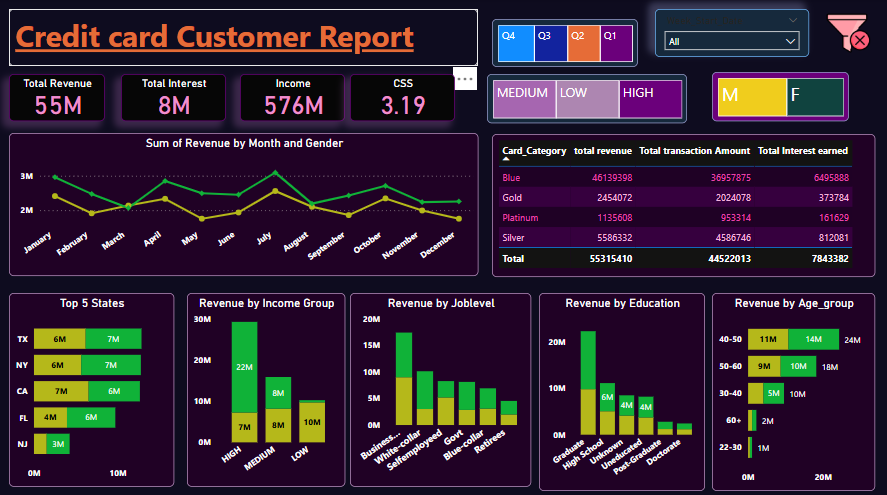

Layout of this report page (visuals, bound fields, positions):
{"tool":"powerbi","page":{"name":"customer CC","canvas":[1280,720],"ordinal":2},"visuals":[{"type":"textbox","box":[15.8,14.4,675.4,82.1],"z":0},{"type":"tableEx","fields":{"Values":["credit_detail.Card_Category","Sum(credit_detail.Revenue)","Sum(credit_detail.Total_Trans_Amt)","Sum(credit_detail.Interest_Earned)"]},"box":[711.4,194.4,560.2,205.9],"z":1000},{"type":"card","title":"REVENUE","fields":{"Values":["Sum(credit_detail.Revenue)"]},"box":[15.8,108,151.2,86.4],"z":2000},{"type":"card","title":"Total Interest","fields":{"Values":["Sum(credit_detail.Interest_Earned)"]},"box":[177.1,108,151.2,86.4],"z":3000},{"type":"card","title":"Income","fields":{"Values":["Sum(customer_detail.Income)"]},"box":[348.5,108,151.2,86.4],"z":4000},{"type":"card","title":"CSS","fields":{"Values":["Avg(customer_detail.Cust_Satisfaction_Score)"]},"box":[506.9,108,151.2,86.4],"z":5000},{"type":"treemap","fields":{"Group":["credit_detail.Qtr"],"Values":["Avg(credit_detail.Client_Num)"]},"box":[704.2,14.4,280.8,67.7],"z":6000},{"type":"treemap","fields":{"Values":["Avg(credit_detail.Client_Num)"],"Group":["customer_detail.IncomeGroup"]},"box":[704.2,103.7,288,70.6],"z":7000},{"type":"barChart","title":"Revenue by Income Group","fields":{"Category":["customer_detail.IncomeGroup"],"Y":["Sum(credit_detail.Revenue)"],"Series":["customer_detail.Gender"]},"box":[253.4,416.2,246.2,292.3],"z":8000},{"type":"treemap","fields":{"Group":["customer_detail.Gender"],"Values":["Sum(credit_detail.Revenue)"]},"box":[1035.4,103.7,197.3,70.6],"z":9000},{"type":"barChart","title":" Revenue by Age_group ","fields":{"Y":["Sum(credit_detail.Revenue)"],"Category":["customer_detail.Age_group"],"Series":["customer_detail.Gender"]},"box":[1035.4,416.2,234.7,292.3],"z":10000},{"type":"barChart","title":" Revenue by Joblevel","fields":{"Y":["Sum(credit_detail.Revenue)"],"Category":["customer_detail.Customer_Job"],"Series":["customer_detail.Gender"]},"box":[506.9,416.2,272.2,292.3],"z":11000},{"type":"barChart","title":" Revenue by Education","fields":{"Y":["Sum(credit_detail.Revenue)"],"Category":["customer_detail.Education_Level"],"Series":["customer_detail.Gender"]},"box":[779,416.2,239,292.3],"z":12000},{"type":"barChart","title":"Top 5 States","fields":{"Y":["Sum(credit_detail.Revenue)"],"Category":["customer_detail.state_cd"],"Series":["customer_detail.Gender"]},"box":[1.4,416.2,252,292.3],"z":13000},{"type":"lineChart","fields":{"Y":["Sum(credit_detail.Revenue)"],"Series":["customer_detail.Gender"],"Category":["credit_detail.Week_Start_Date.Variation.Date Hierarchy.Year","credit_detail.Week_Start_Date.Variation.Date Hierarchy.Quarter","credit_detail.Week_Start_Date.Variation.Date Hierarchy.Month","credit_detail.Week_Start_Date.Variation.Date Hierarchy.Day"]},"box":[15.8,194.4,675.4,205.9],"z":14000},{"type":"slicer","fields":{"Values":["credit_detail.Week_Start_Date"]},"box":[1000.8,14.4,262.1,67.7],"z":15000}]}

Visuals, with their boxes in screenshot pixels (x1, y1, x2, y2), scaled from the page's 1280x720 canvas onto the 887x495 screenshot:
textbox: x1=11, y1=10, x2=479, y2=66
tableEx - credit_detail.Card_Category x Sum(credit_detail.Revenue): x1=493, y1=134, x2=881, y2=275
"REVENUE" card: x1=11, y1=74, x2=116, y2=134
"Total Interest" card: x1=123, y1=74, x2=228, y2=134
"Income" card: x1=241, y1=74, x2=346, y2=134
"CSS" card: x1=351, y1=74, x2=456, y2=134
treemap - credit_detail.Qtr x Avg(credit_detail.Client_Num): x1=488, y1=10, x2=683, y2=56
treemap - Avg(credit_detail.Client_Num) x customer_detail.IncomeGroup: x1=488, y1=71, x2=688, y2=120
"Revenue by Income Group" barChart: x1=176, y1=286, x2=346, y2=487
treemap - customer_detail.Gender x Sum(credit_detail.Revenue): x1=717, y1=71, x2=854, y2=120
" Revenue by Age_group " barChart: x1=717, y1=286, x2=880, y2=487
" Revenue by Joblevel" barChart: x1=351, y1=286, x2=540, y2=487
" Revenue by Education" barChart: x1=540, y1=286, x2=705, y2=487
"Top 5 States" barChart: x1=1, y1=286, x2=176, y2=487
lineChart - Sum(credit_detail.Revenue) x customer_detail.Gender: x1=11, y1=134, x2=479, y2=275
slicer - credit_detail.Week_Start_Date: x1=694, y1=10, x2=875, y2=56
